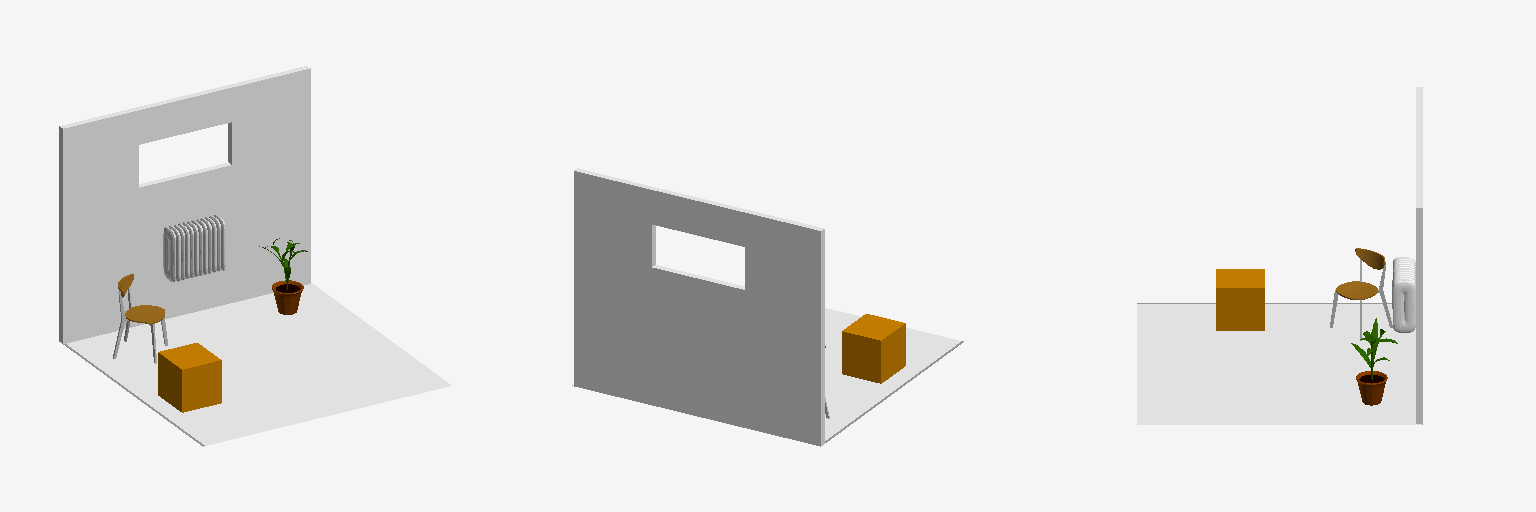
File: PatioIzquierda.obj
3 renders of one model, left to right at view 1: azimuth 30°, elevation 25°; view 2: azimuth 150°, elevation 25°; view 3: azimuth 270°, elevation 25°, orthographic.
Visible parts, largest first — view 1: wall_1_5, room_2_8, front_65, left_62, top_61, Pot_16_33, Tube_1_43, Seat_39, Feet_41; view 2: wall_1_4, room_2_8, back_64, left_62, top_61; view 3: room_2_8, right_63, Tube_12_50, top_61, wall_1_5, Pot_16_33, wall_1_4, Seat_39.
Part boxes in pixels (x1,y1,x2,y2): wall_1_5: (61,68,310,343); room_2_8: (67,283,451,445); front_65: (182,360,221,412); left_62: (158,353,181,411); top_61: (158,343,220,369); Pot_16_33: (272,280,303,314); Tube_1_43: (163,227,175,282); Seat_39: (125,305,164,323); Feet_41: (114,286,167,363); wall_1_4: (574,171,822,446); room_2_8: (573,308,960,440); back_64: (842,331,880,383); left_62: (881,323,905,383); top_61: (843,314,904,340); room_2_8: (1137,304,1421,424); right_63: (1216,288,1264,330); Tube_12_50: (1392,281,1415,332); top_61: (1216,269,1264,287); wall_1_5: (1416,208,1419,423); Pot_16_33: (1356,371,1387,405); wall_1_4: (1420,208,1422,423); Seat_39: (1336,281,1377,299).
Bounding box in the file's own units: 303 × 250 × 301.